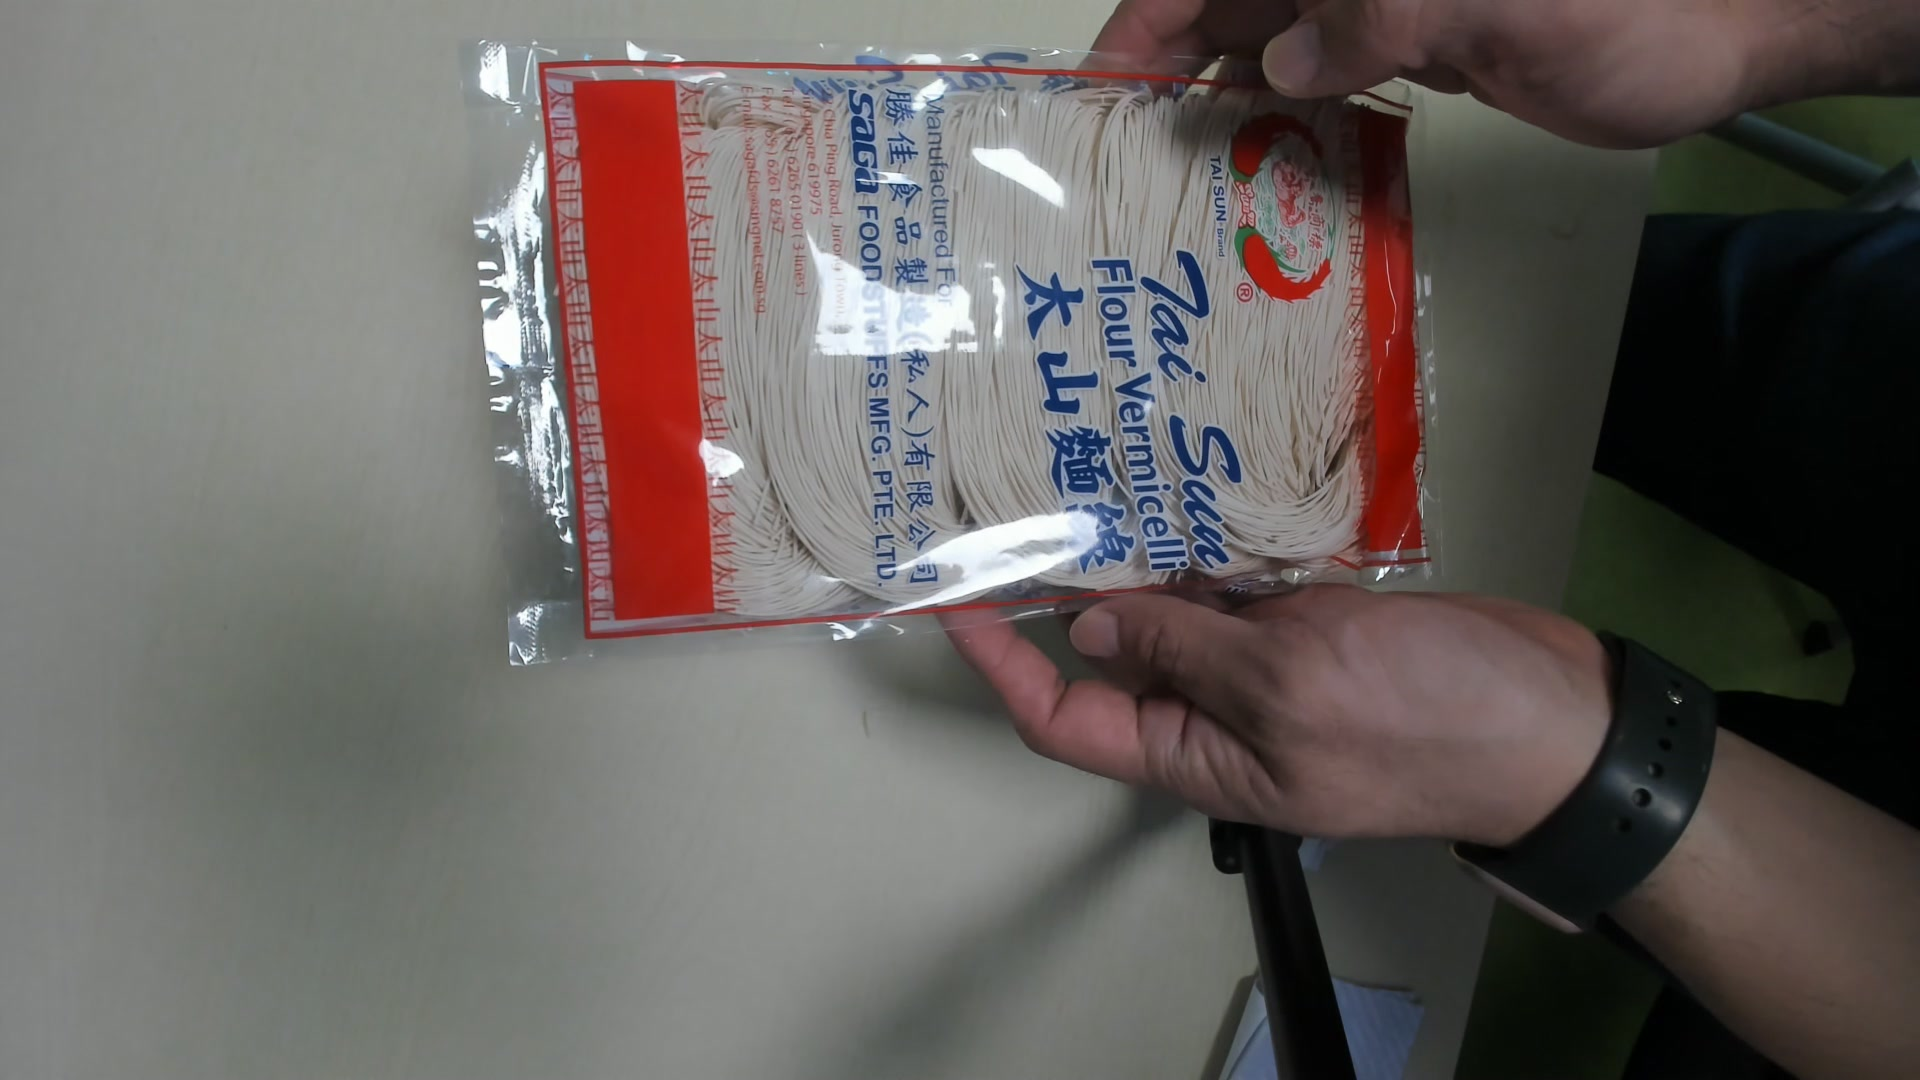BeeHoonVermicelli_300-399g_Halal_NonHealthy: (483, 38, 1449, 641)
